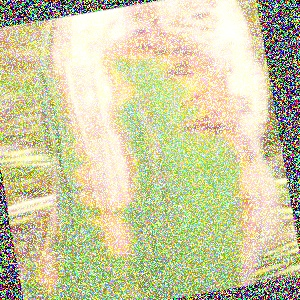Leaf_Blast: (60, 2, 277, 297)
